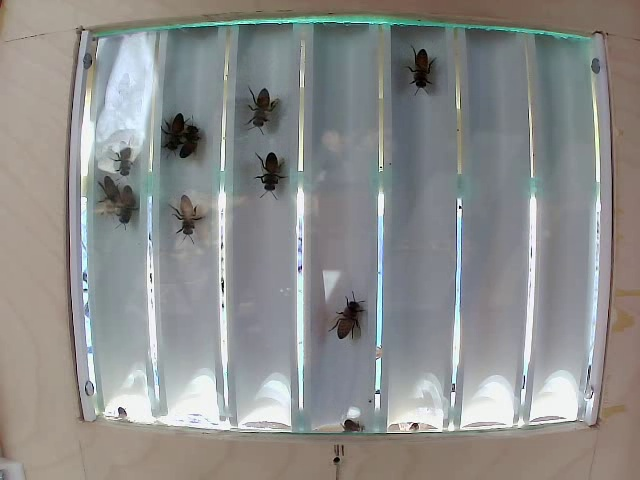bee: (331, 281, 382, 346), (243, 149, 294, 211), (397, 39, 439, 94), (175, 190, 210, 255), (239, 81, 283, 132), (116, 177, 151, 234), (92, 167, 130, 215), (107, 139, 139, 182), (174, 117, 200, 166), (156, 103, 181, 151)
